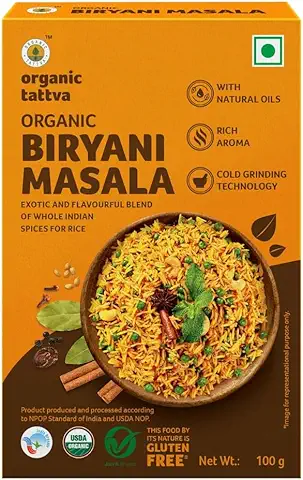Biryani: (5, 6, 303, 480)
